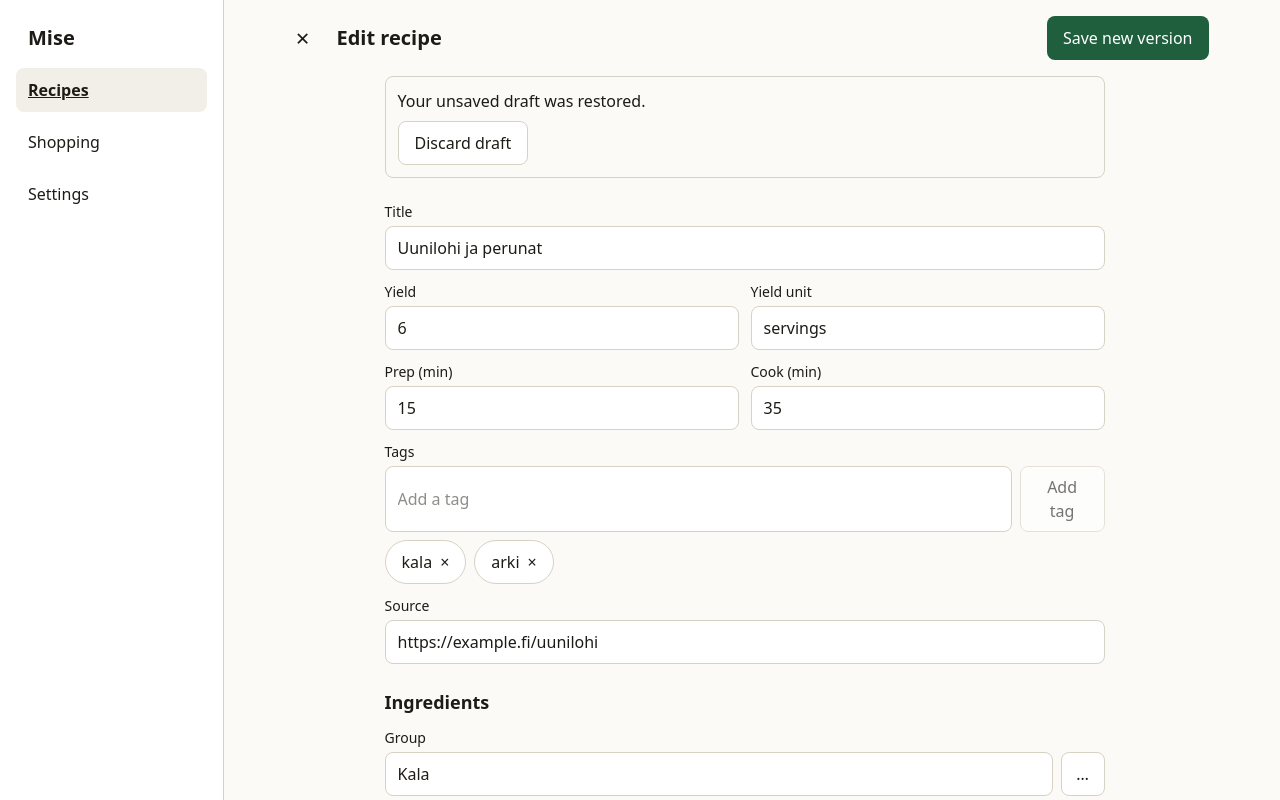
Test case: recipe form (FR-01, FR-03, FR-05) › asks before leaving with unsaved edits
The image size is (1280, 800).
Type " x" into the field labelled "Title".
click(744, 248); type(" x")  # box [384,226,1104,270]
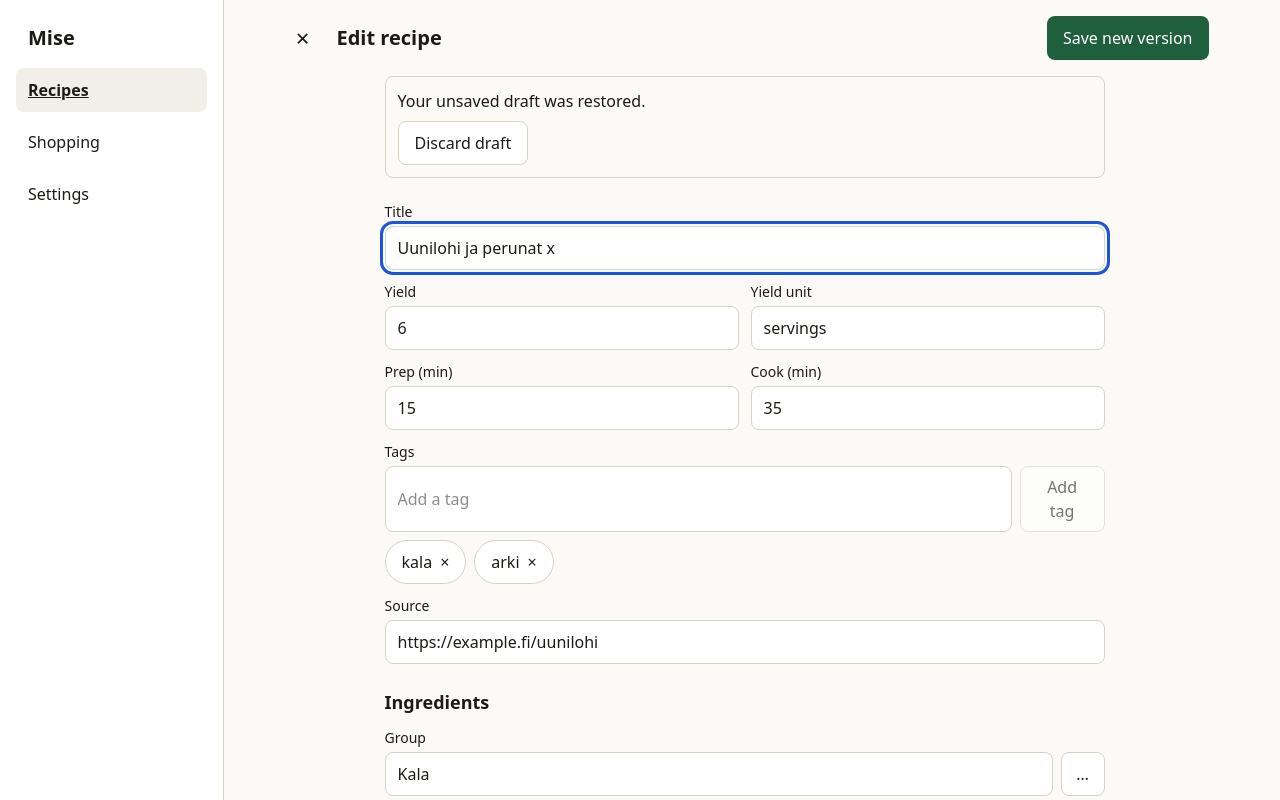
Click the link named "Close without saving".
click(302, 38)  # box [296,21,309,54]
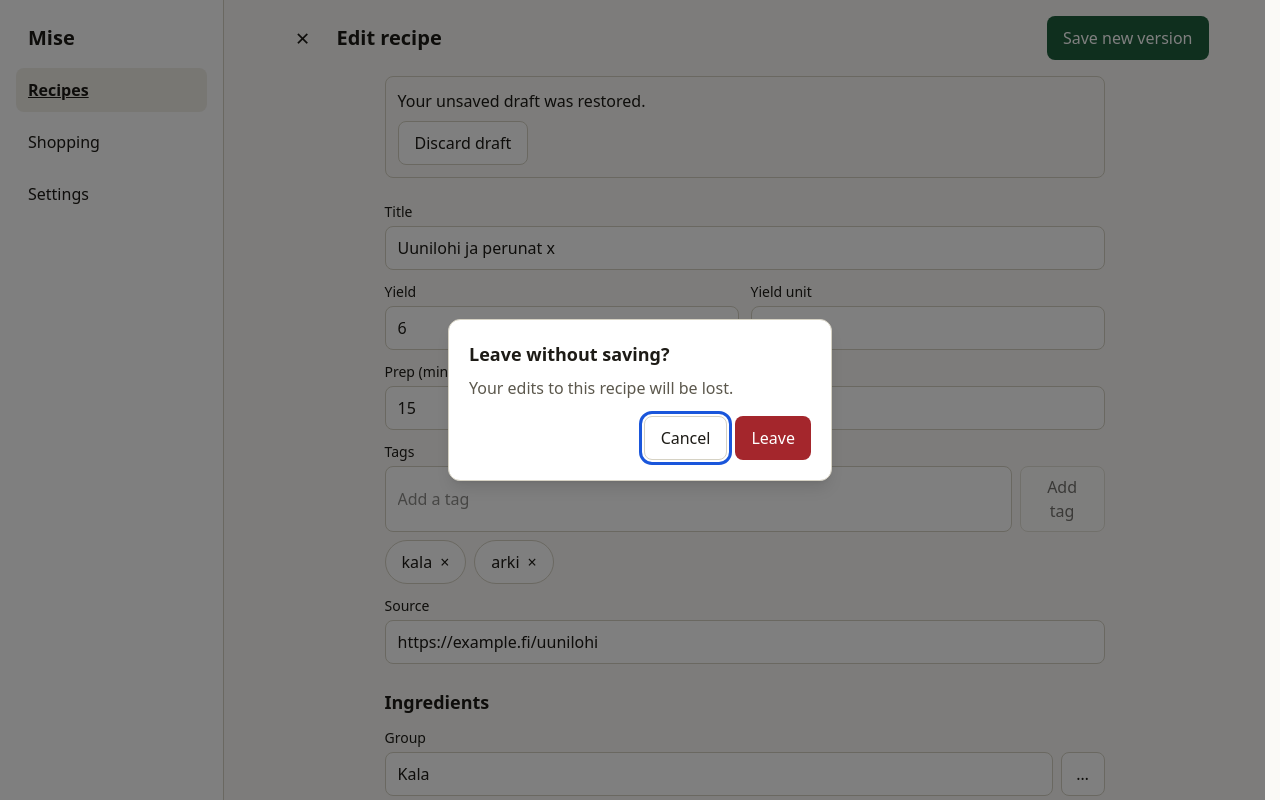
Result: the heading "Leave without saving?" is shown at [469,342,670,366]
